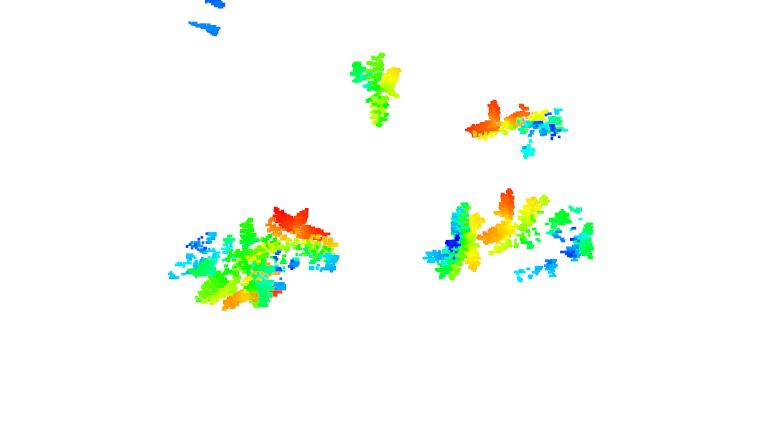chickpea: (172, 215, 285, 315), (482, 188, 599, 282), (466, 98, 566, 161), (257, 206, 337, 273), (423, 197, 484, 283), (346, 50, 403, 133)
